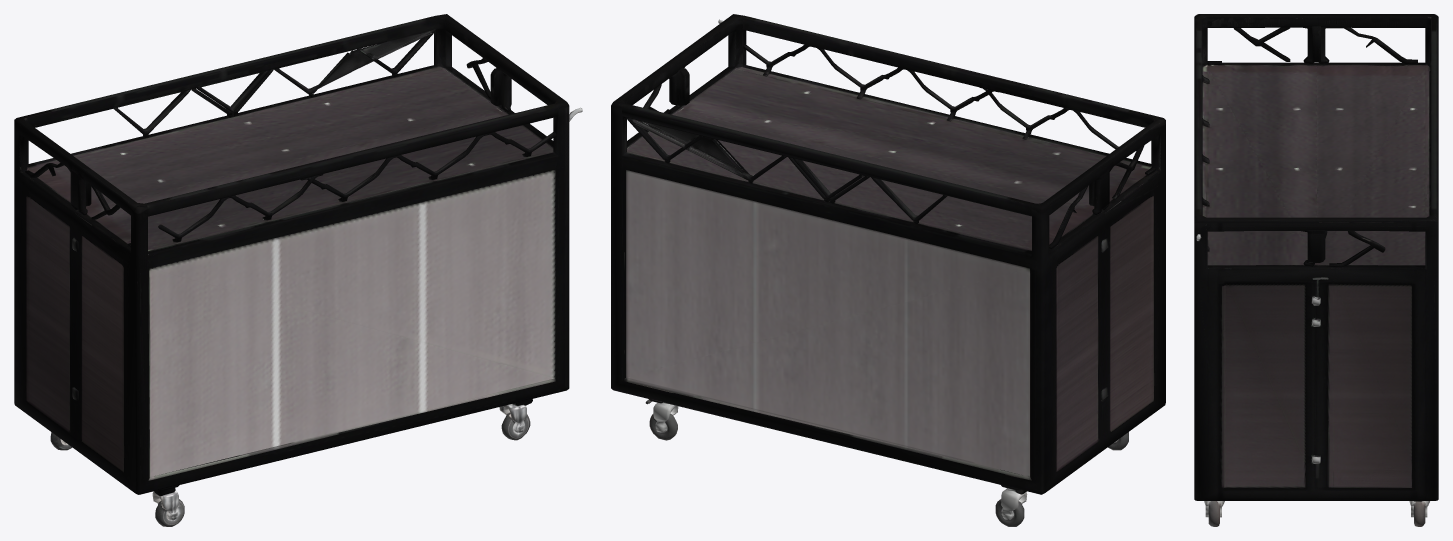
Rendered from Meshy_AI_Roll_around_storage_c_0518130947_texture.fbx.
The picture shows the model from 3 angles, left to right: view 1: azimuth 30°, elevation 25°; view 2: azimuth 150°, elevation 25°; view 3: azimuth 270°, elevation 25°; orthographic projection.
Parts seen in each view (by area): view 1: Mesh_0; view 2: Mesh_0; view 3: Mesh_0.
Part boxes in pixels (<box>): Mesh_0: <box>14,14,582,526</box>; Mesh_0: <box>611,14,1165,526</box>; Mesh_0: <box>1194,14,1438,526</box>.
Bounding box in the file's own units: 194 × 139 × 93.54.
Materials: 1 (1 with a texture image).
